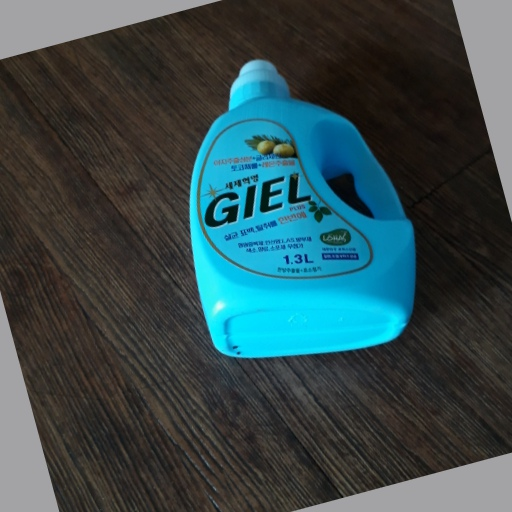Plastic_1: (187, 57, 418, 357)
